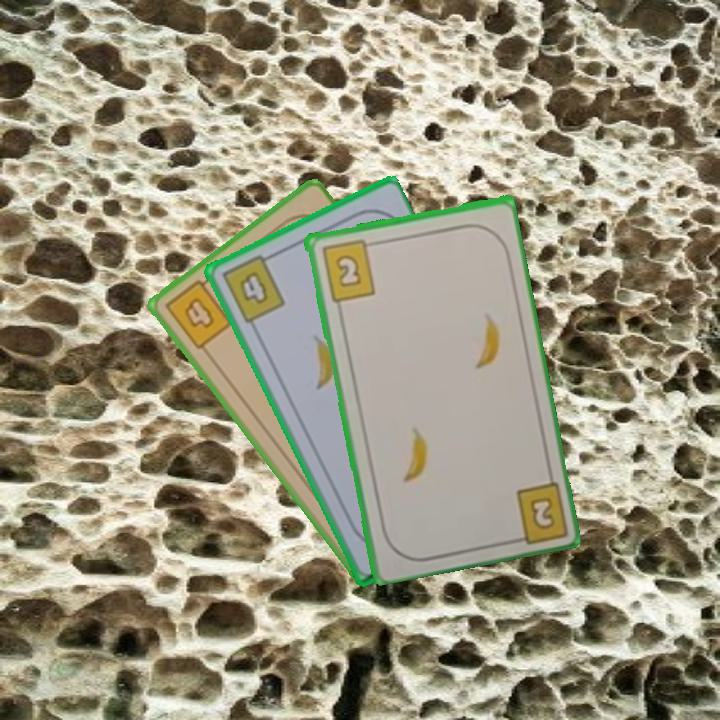2b: (504, 475, 567, 546), (317, 235, 379, 304)
4b: (161, 272, 235, 353), (218, 249, 288, 327)
